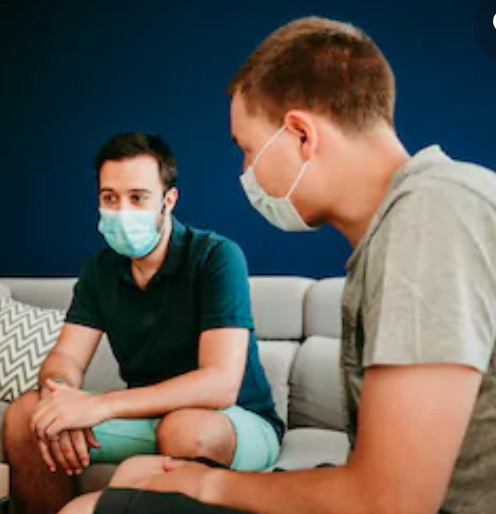Caution: (11, 13, 494, 513)
